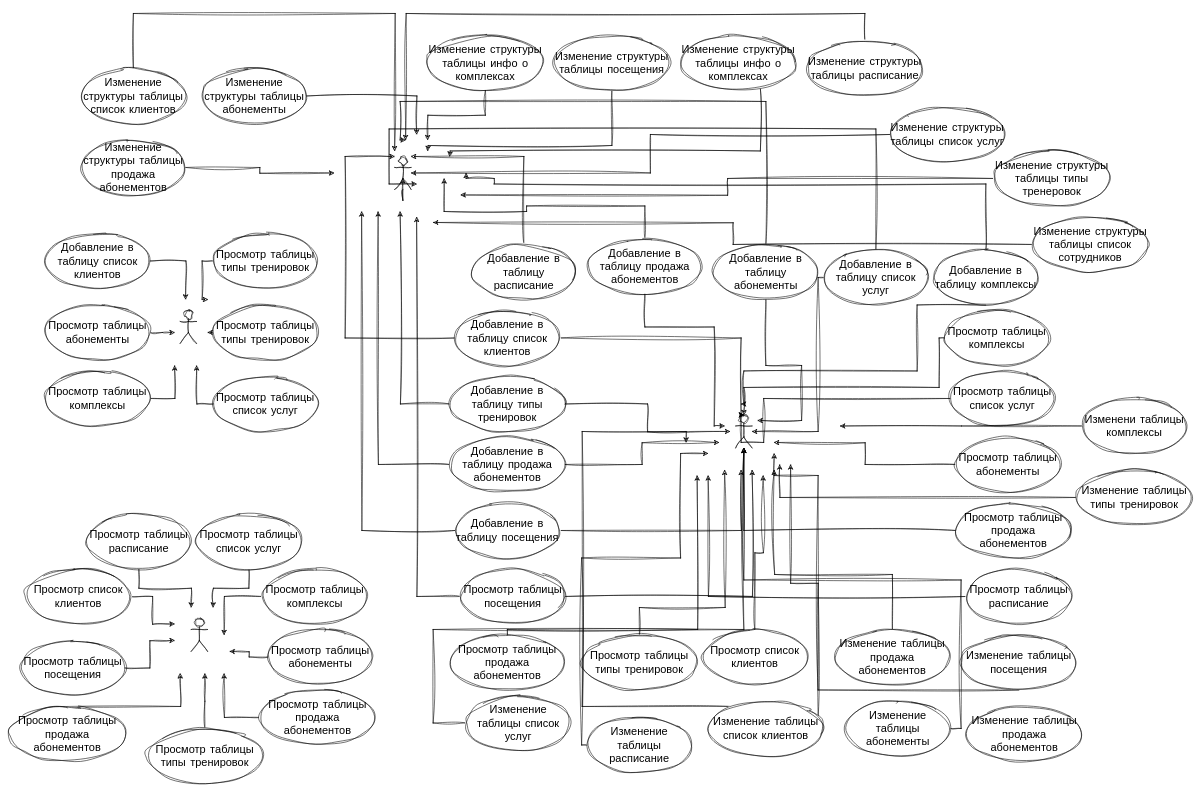
This 1202x793 diagram has some shape labels left out. Each missing label, with the centre of its shape:
ADMINISTRATOR: pixel 402 172
ANALYST: pixel 199 634
CLIENT: pixel 188 326
MANAGER: pixel 743 431
